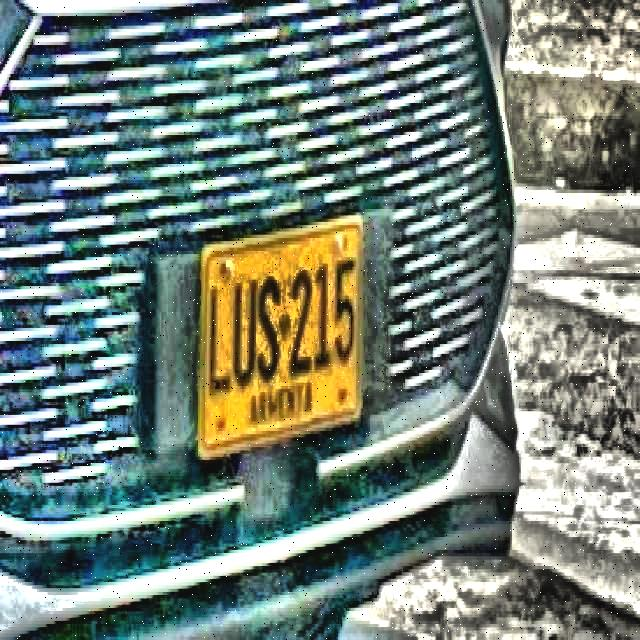plate: (203, 222, 362, 452)
